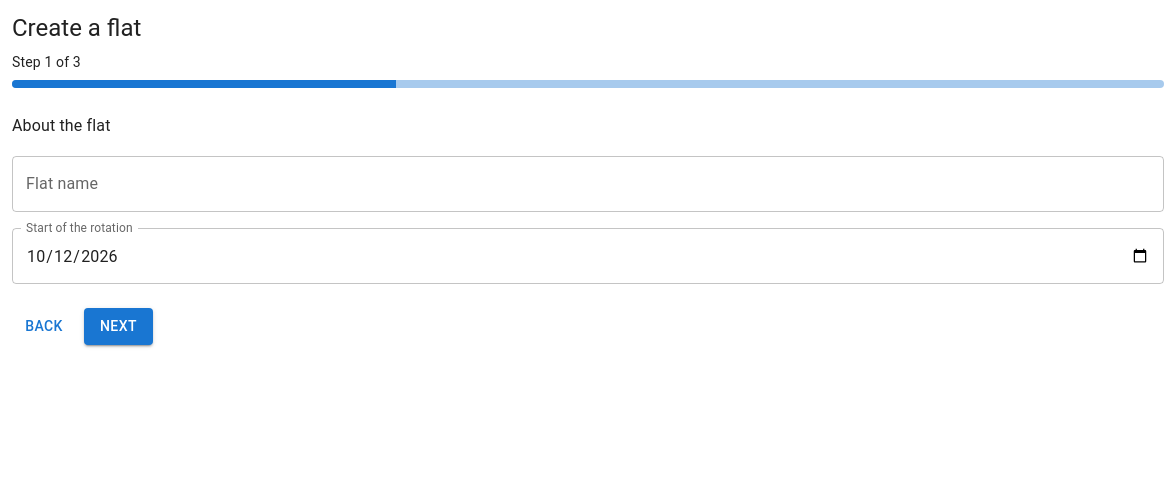
Test: CreateFlatForm › shows the error of a failed submission and disables the button while busy
The width and height of the screenshot is (1176, 478).
In the field labelled "Flat name": (588, 184) [12,156,1164,212], type "  Our flat "
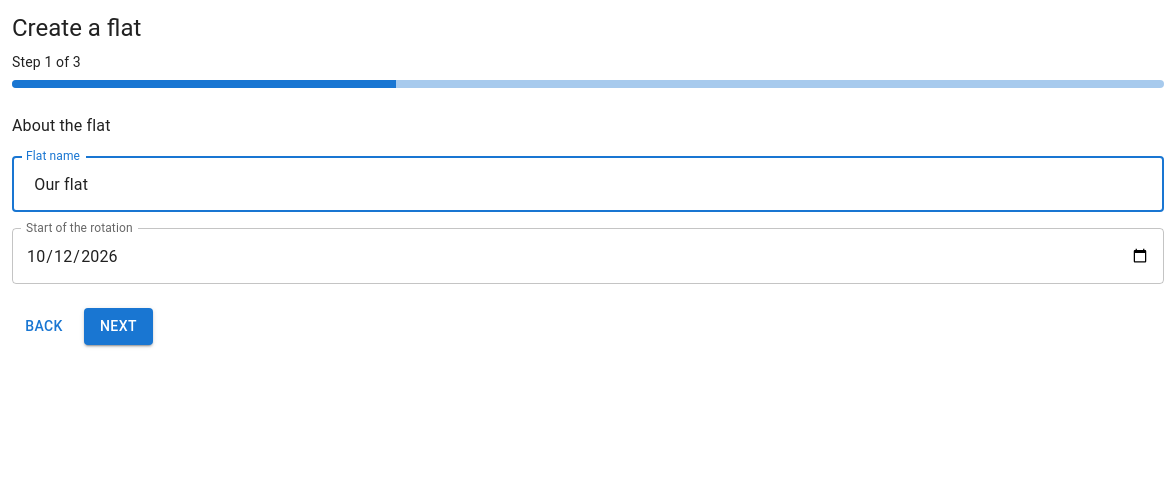
Click the button "Next": (118, 326) [84,308,153,344]
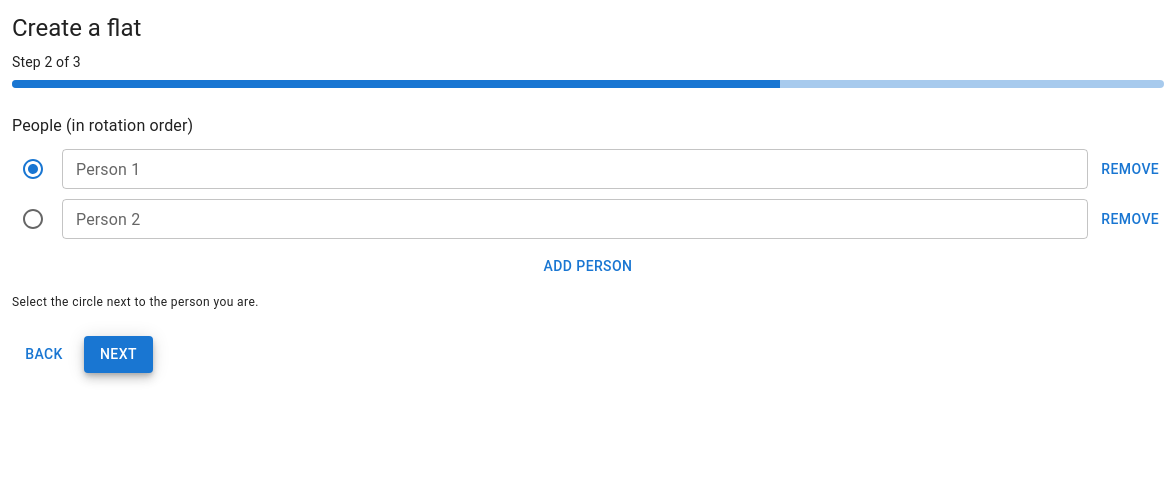
In the field labelled "Person 1": (575, 169) [62,149,1088,189], type "Ana"
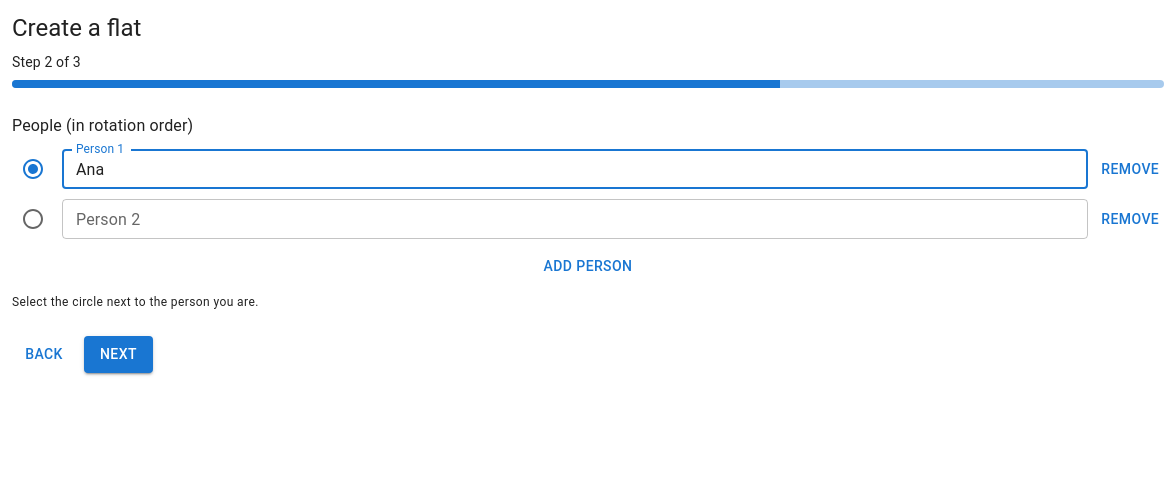
In the field labelled "Person 2": (575, 219) [62,199,1088,239], type "Ben"
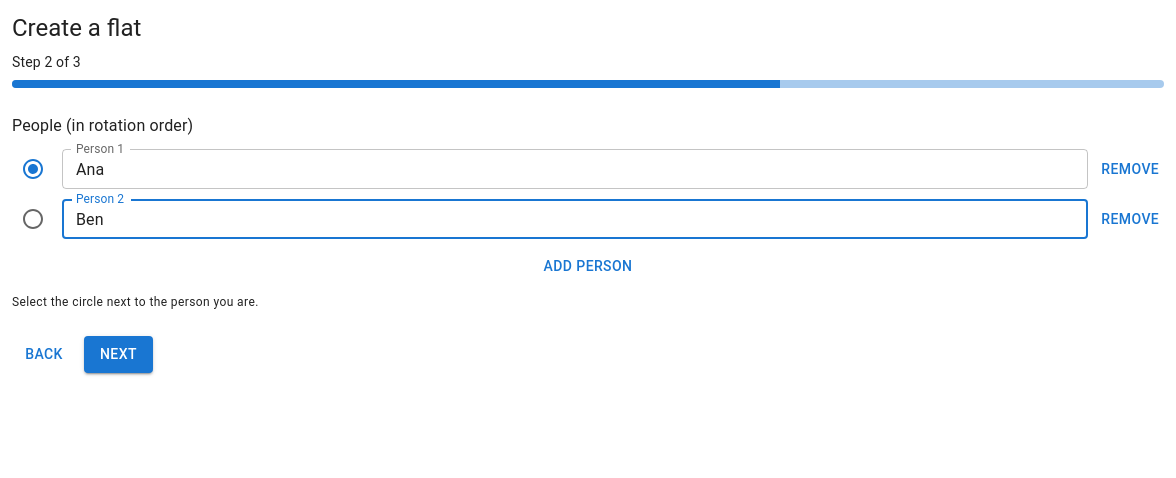
Click the button "Next": (118, 355) [84,336,153,373]
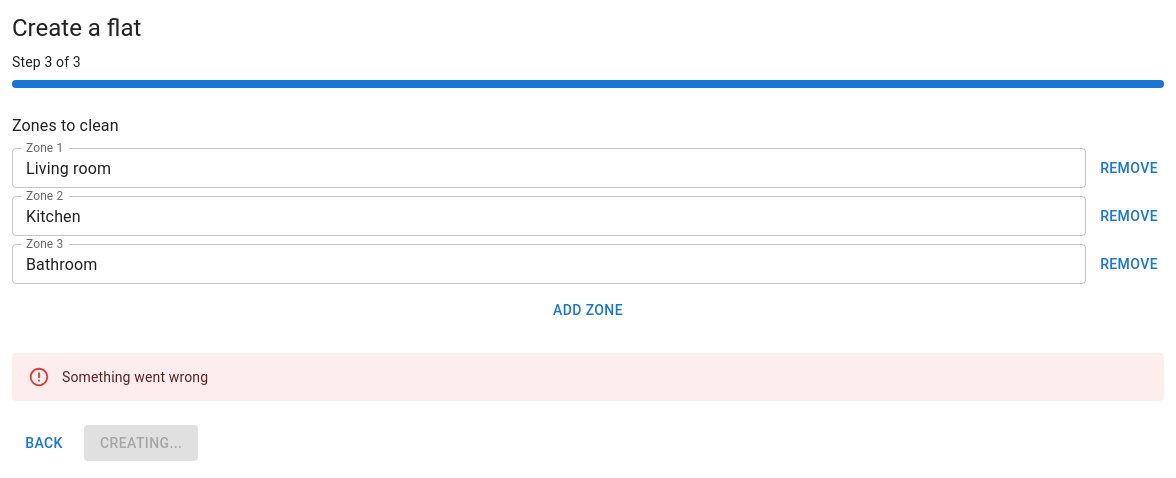
Expected: the text "Something went wrong" is shown, [62,368,208,384]
Expected: the button "Creating..." is disabled, [84,424,198,461]
